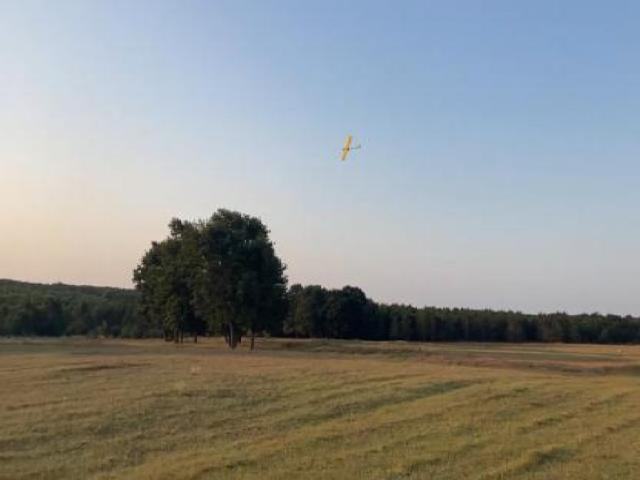uav: (338, 135, 362, 162)
